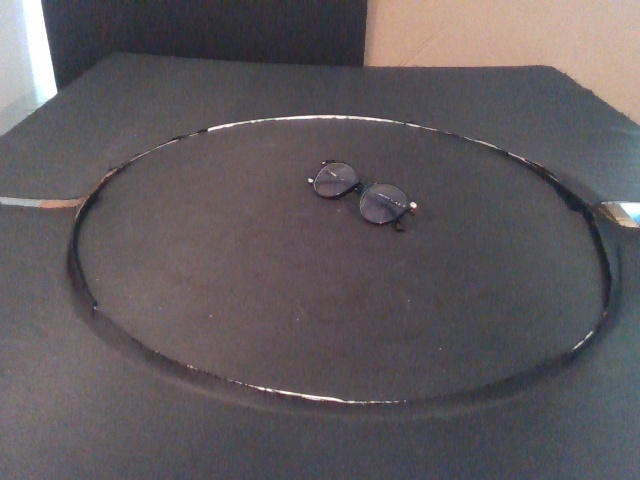glasses: (307, 158, 419, 234)
